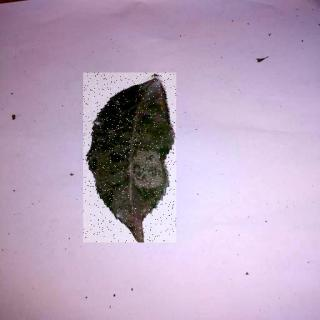Anthracnose: (84, 74, 177, 244)
